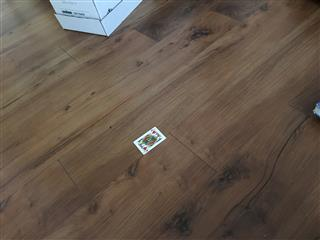JackOfHearts: (132, 126, 166, 154)
